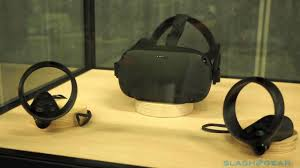oculus: (113, 40, 220, 105)
